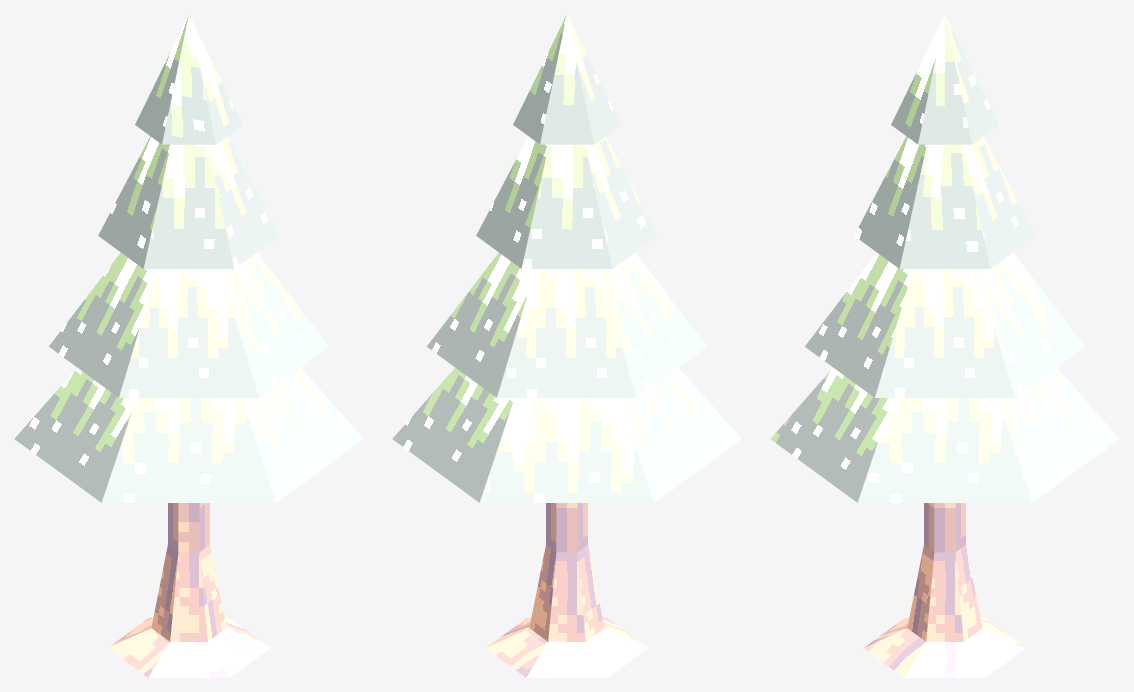
Rendered from pine.glb.
3 views of the same model, side by side, from view 1: azimuth 30°, elevation 25°; view 2: azimuth 150°, elevation 25°; view 3: azimuth 270°, elevation 25° (orthographic).
Parts seen in each view (by area): view 1: Cylinder; view 2: Cylinder; view 3: Cylinder.
Boxes of the visible parts, <box> form: Cylinder: <box>14,14,363,677</box>; Cylinder: <box>392,14,741,677</box>; Cylinder: <box>770,14,1119,677</box>.
Bounding box in the file's own units: 0.9277 × 2.14 × 1.07.
